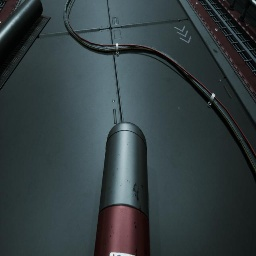NitrogenTank ,: (94, 122, 150, 256)
